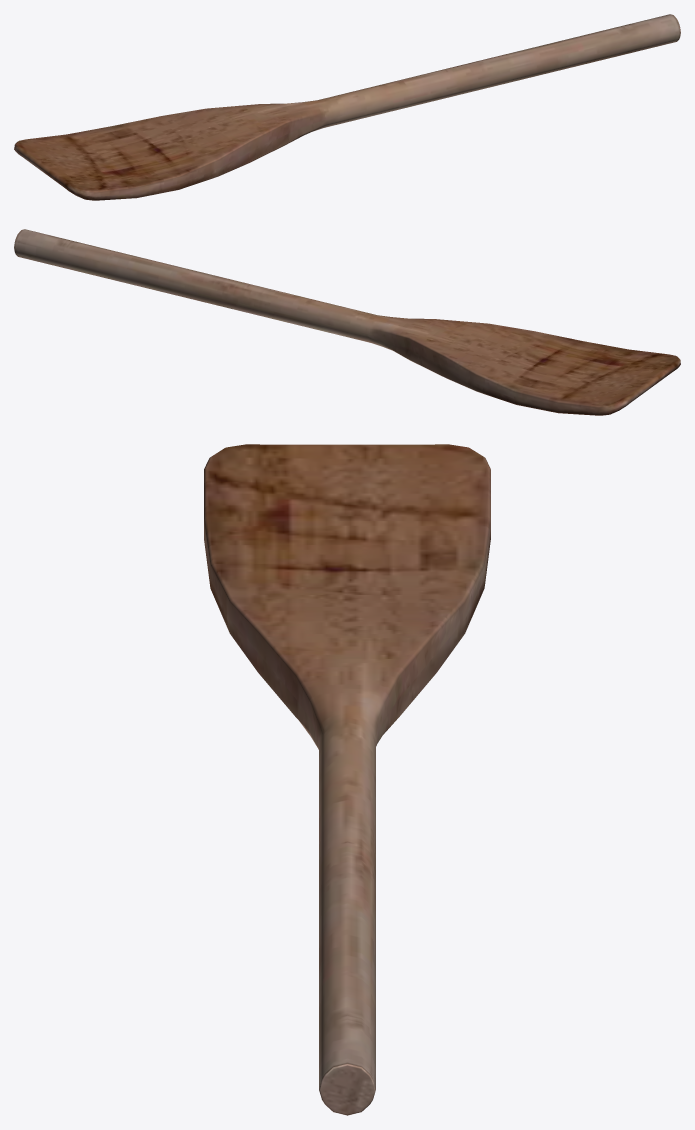
Rendered from wooden_spatula.glb.
3 views of the same model, one above another, from view 1: azimuth 30°, elevation 25°; view 2: azimuth 150°, elevation 25°; view 3: azimuth 270°, elevation 25° (orthographic). The views are drawn at different scales.
Visible parts, largest first — view 1: spatula_spatula_0; view 2: spatula_spatula_0; view 3: spatula_spatula_0.
Boxes of the visible parts, x1,y1,x2,y2 form: spatula_spatula_0: (14, 14, 680, 200); spatula_spatula_0: (14, 229, 680, 415); spatula_spatula_0: (204, 444, 490, 1115).
Size of the model in its own units: 0.3 by 0.013 by 0.059.
1 material, 1 textured.
